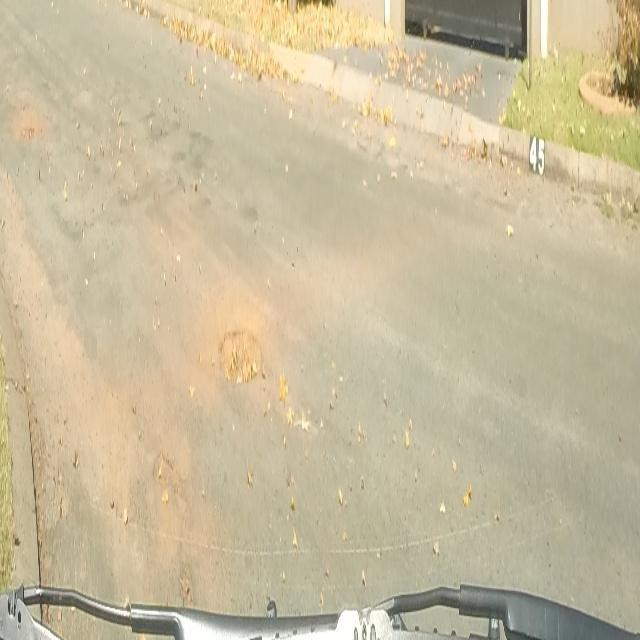pothole: (212, 324, 266, 387)
